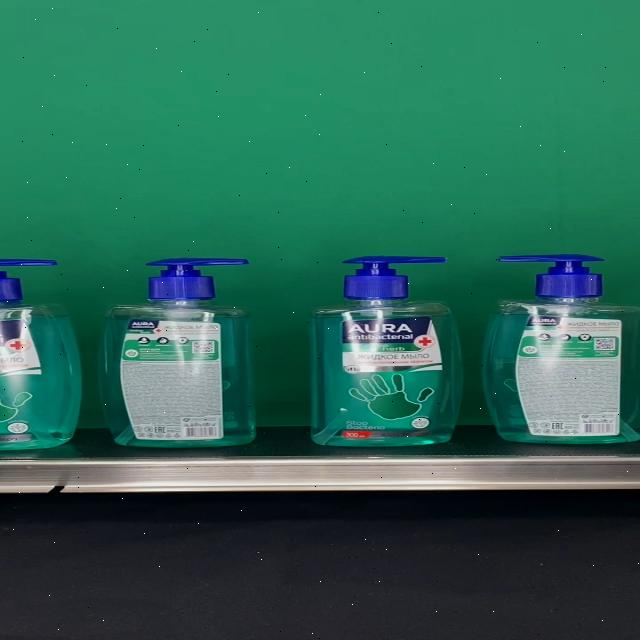Bottle: (481, 254, 640, 443), (101, 258, 256, 448), (310, 256, 464, 447)
Cap: (499, 255, 605, 298), (342, 257, 446, 299), (146, 258, 249, 300)
